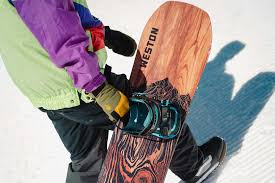snowboard: (96, 1, 214, 183)
